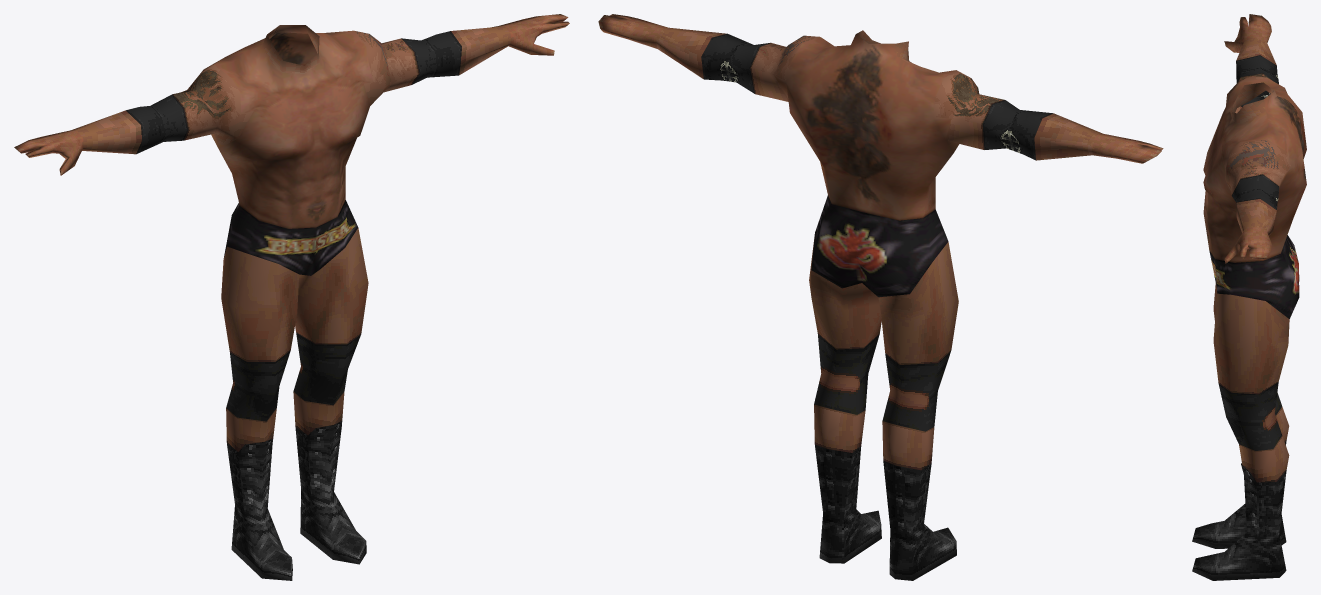
The model's file is Batista_B.obj.
3 views of the same model, side by side, from view 1: azimuth 30°, elevation 25°; view 2: azimuth 150°, elevation 25°; view 3: azimuth 270°, elevation 25° (orthographic). The views are drawn at different scales.
Visible parts, largest first — view 1: Batista_B.001; view 2: Batista_B.001; view 3: Batista_B.001.
Part boxes in pixels (x1=…): Batista_B.001: x1=14, y1=14, x2=569, y2=580; Batista_B.001: x1=598, y1=14, x2=1163, y2=580; Batista_B.001: x1=1192, y1=14, x2=1306, y2=580.
Size of the model in its own units: 19.39 by 17.41 by 3.88.
11 materials, 11 textured.
